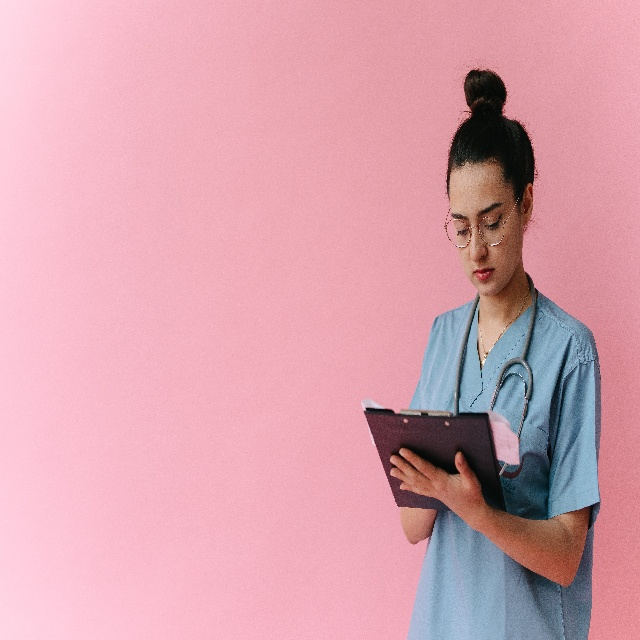Gafas: (444, 158, 530, 247)
Sin_guantes: (389, 443, 484, 534)
